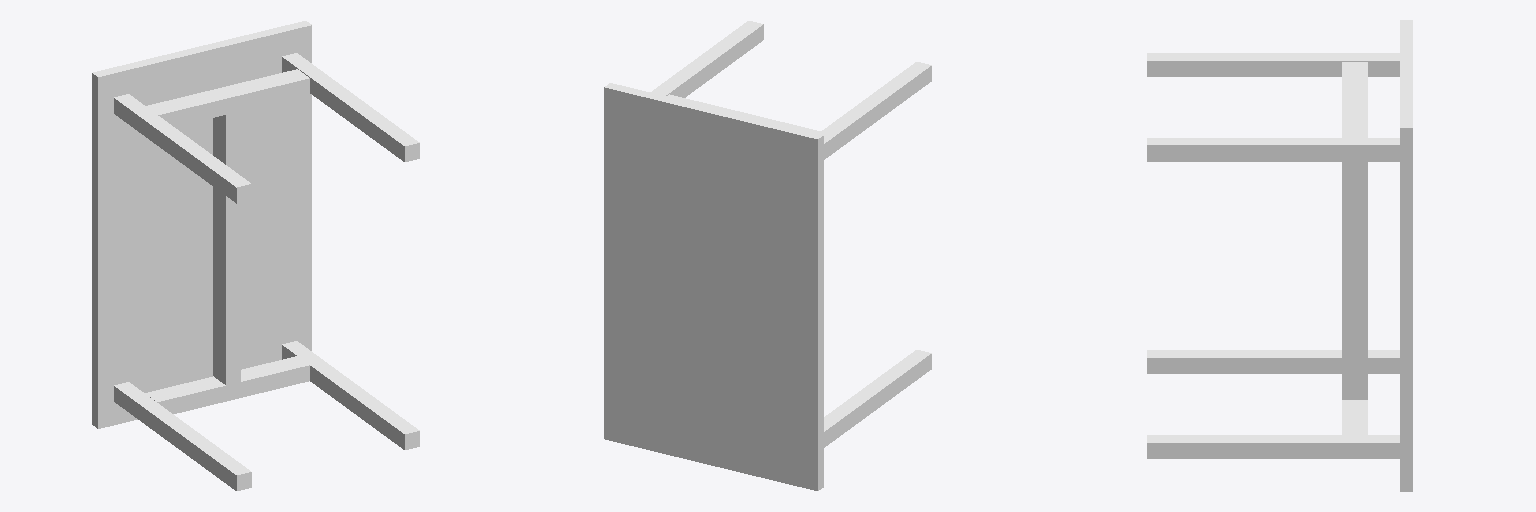
The robot description file, URDF, robot "table1_three.urdf":
<?xml version="1.0" ?>
<robot name="table1_three.urdf">
  <link name="baseLink">
    <inertial>
      <origin rpy="0 0 0" xyz="0 0 0"/>
       <mass value="0.0"/>
       <inertia ixx="0" ixy="0" ixz="0" iyy="0" iyz="0" izz="0"/>
    </inertial>
    <visual>
      <origin rpy="0 0 0" xyz="0 0 0"/>
      <geometry>
        <mesh filename="table1_three.obj" scale="1.0 1.0 1.0"/>
      </geometry>
      <material name="white">
       <color rgba="1 1 1 1"/>
     </material>
    </visual>
    <collision concave="yes">
      <origin rpy="0 0 0" xyz="0 0 0"/>
      <geometry>
        <mesh filename="table1_three.obj" scale="1.0 1.0 1.0"/>
        <!-- You could also specify the collision (for the table1_three) with a "box" tag: -->
        <!-- <box size=".06 .06 .06"/> -->
      </geometry>
    </collision>
  </link>
</robot>
        

--- What the picture shows (computed from the rendered views, not written in the file) ---
The picture shows the robot from 3 angles, left to right: view 1: azimuth 30°, elevation 25°; view 2: azimuth 150°, elevation 25°; view 3: azimuth 270°, elevation 25°; orthographic projection.
Robot: table1_three.urdf — 1 links, 0 joints (none); root link baseLink; default pose: all joints at 0.
Visible links, largest first — view 1: baseLink; view 2: baseLink; view 3: baseLink.
Link boxes in pixels (left/top/right/bottom): baseLink: left=92, top=21, right=419, bottom=490; baseLink: left=604, top=21, right=931, bottom=490; baseLink: left=1147, top=20, right=1412, bottom=491.
Size in the robot's own frame: 98 by 103 by 154 metres.
Meshes: 1 distinct files referenced, 1 mesh visuals loaded (1 OBJ).
